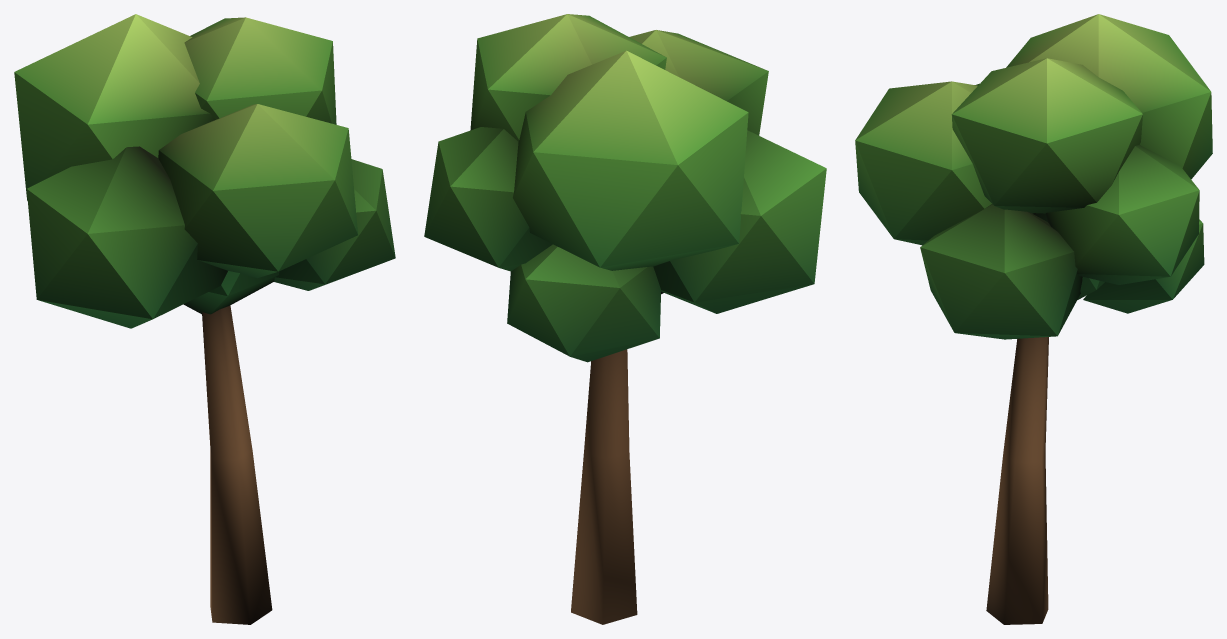
Rendered from tree-standing-b-far.glb.
The picture shows the model from 3 angles, left to right: view 1: azimuth 30°, elevation 25°; view 2: azimuth 150°, elevation 25°; view 3: azimuth 270°, elevation 25°; orthographic projection. The views are drawn at different scales.
Parts seen in each view (by area): view 1: 1_leaves.003, 0_trunk.003; view 2: 1_leaves.003, 0_trunk.003; view 3: 1_leaves.003, 0_trunk.003.
Boxes of the visible parts, <box> form: 1_leaves.003: <box>14,14,395,328</box>; 0_trunk.003: <box>202,305,272,624</box>; 1_leaves.003: <box>424,14,826,362</box>; 0_trunk.003: <box>571,349,637,624</box>; 1_leaves.003: <box>855,14,1212,339</box>; 0_trunk.003: <box>986,337,1048,624</box>.
Size of the model in its own units: 4.17 by 6.87 by 3.9.
